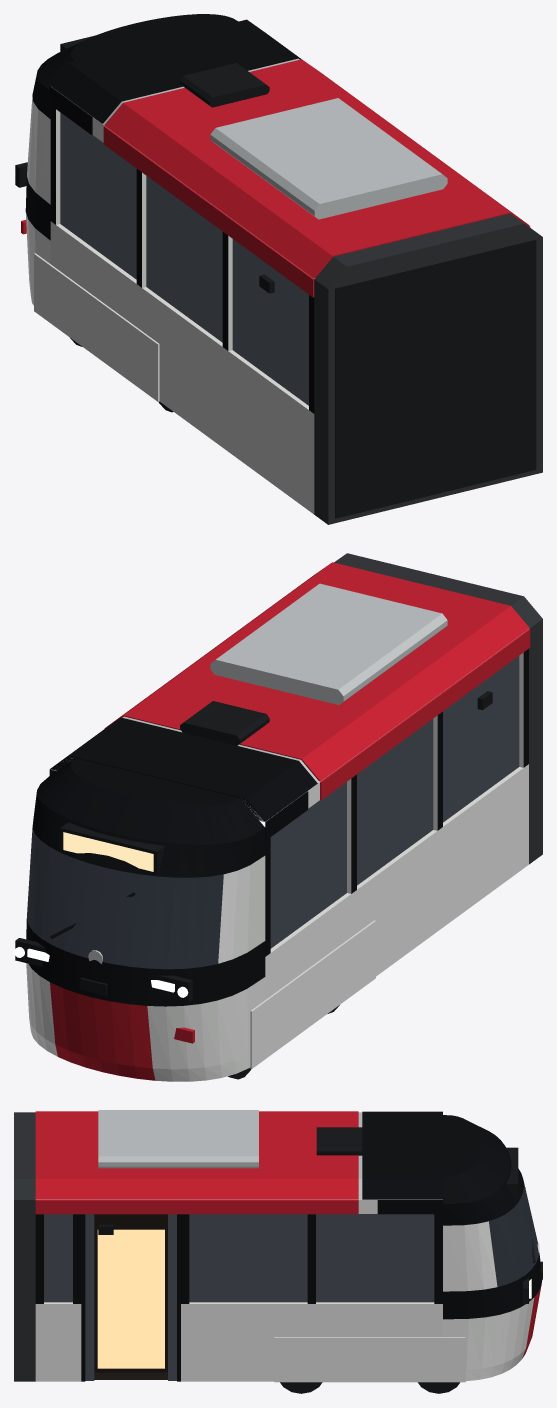
The model's file is 52t-a-open.glb.
3 renders of one model, top to bottom at view 1: azimuth 30°, elevation 25°; view 2: azimuth 150°, elevation 25°; view 3: azimuth 270°, elevation 25°, orthographic. The views are drawn at different scales.
Parts seen in each view (by area): view 1: 52t-a-open; view 2: 52t-a-open; view 3: 52t-a-open.
Boxes of the visible parts, x1,y1,x2,y2 form: 52t-a-open: (14,14,542,524); 52t-a-open: (14,553,542,1081); 52t-a-open: (14,1110,542,1393).
Bounding box in the file's own units: 2.6 × 3.3 × 6.91.
